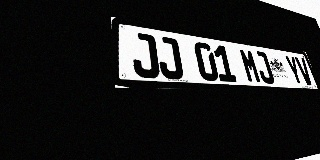0: (193, 41, 220, 81)
1: (211, 44, 237, 82)
J: (130, 32, 160, 79), (155, 36, 184, 80), (253, 50, 275, 84)
M: (238, 48, 262, 83)
V: (294, 57, 314, 86)
Y: (284, 55, 305, 85)
